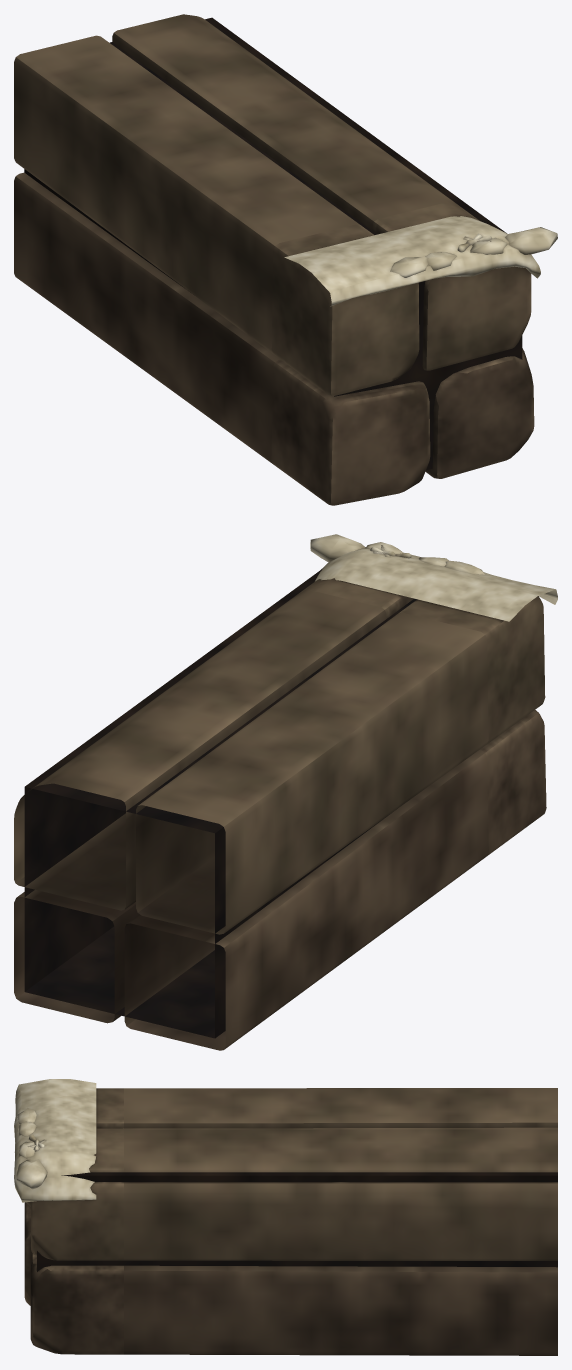
File: Ossuary_Edge_R.fbx
The picture shows the model from 3 angles, top to bottom: view 1: azimuth 30°, elevation 25°; view 2: azimuth 150°, elevation 25°; view 3: azimuth 270°, elevation 25°; orthographic projection. The views are drawn at different scales.
Visible parts, largest first — view 1: Ossuary_Edge_R; view 2: Ossuary_Edge_R; view 3: Ossuary_Edge_R.
Boxes of the visible parts, x1=… form: Ossuary_Edge_R: x1=14, y1=14, x2=557, y2=505; Ossuary_Edge_R: x1=14, y1=534, x2=557, y2=1050; Ossuary_Edge_R: x1=14, y1=1079, x2=557, y2=1355.
Bounding box in the file's own units: 1.08 × 1.02 × 2.57.
